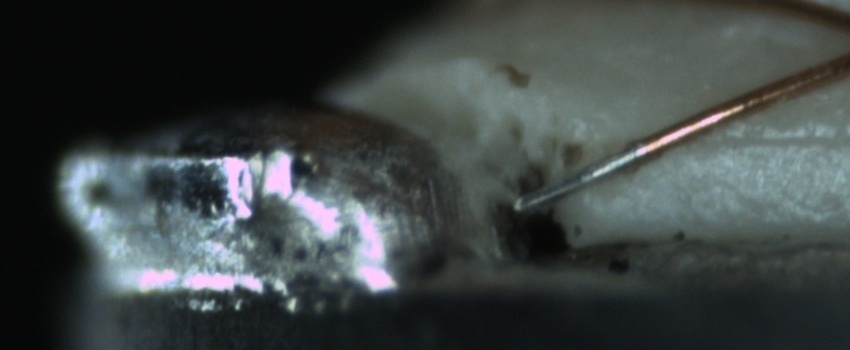DL: (690, 109, 849, 172)
TS: (518, 142, 648, 213)
